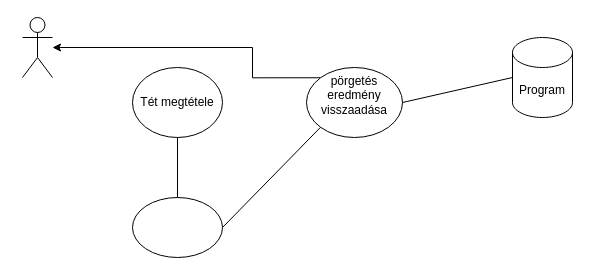
This 590x275 diagram has some shape labels left out. Here are the shapes that lost their labels. From the top down, the box of each, then its label:
(22, 16, 52, 78): Játékos
(132, 196, 222, 258): Pörgetés eredménye
